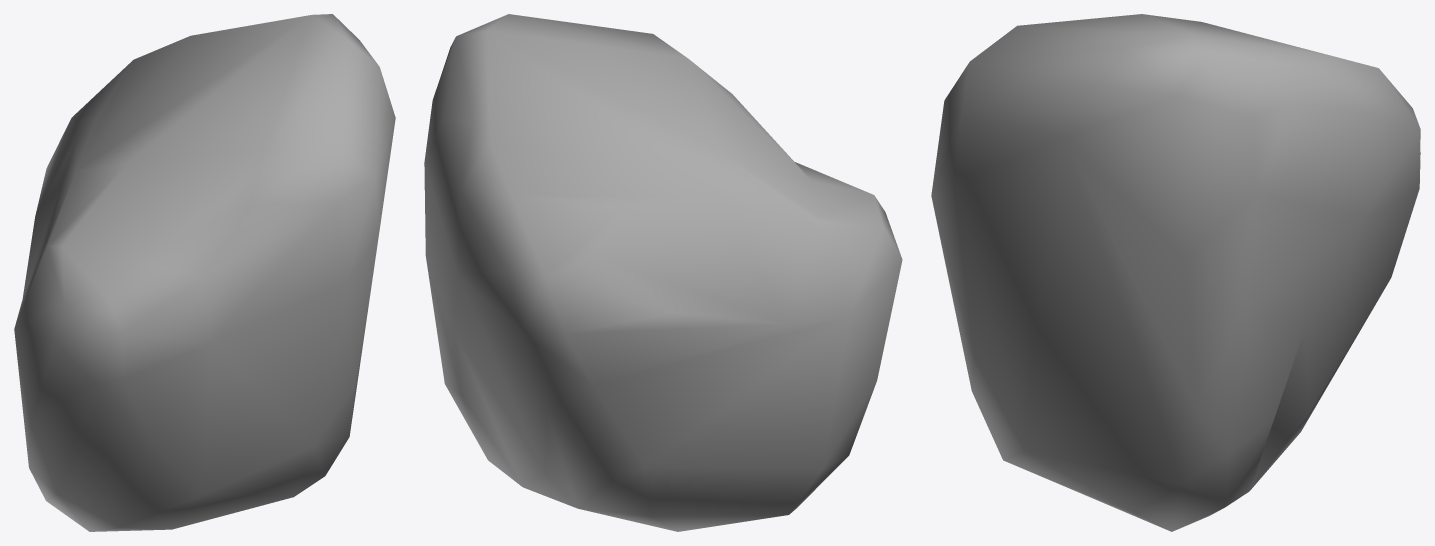
Rendered from SoftRock_03.fbx.
3 renders of one model, left to right at view 1: azimuth 30°, elevation 25°; view 2: azimuth 150°, elevation 25°; view 3: azimuth 270°, elevation 25°, orthographic. The views are drawn at different scales.
Visible parts, largest first — view 1: SoftRock_03; view 2: SoftRock_03; view 3: SoftRock_03.
Part boxes in pixels (<box>): SoftRock_03: <box>14,14,395,531</box>; SoftRock_03: <box>424,14,902,531</box>; SoftRock_03: <box>931,14,1420,531</box>.
Size of the model in its own units: 103 by 111 by 95.34.
